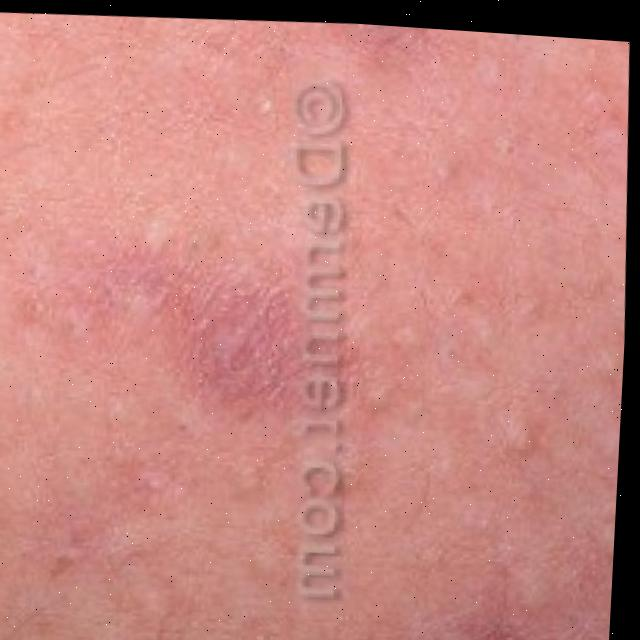Acne: (0, 2, 640, 640)
